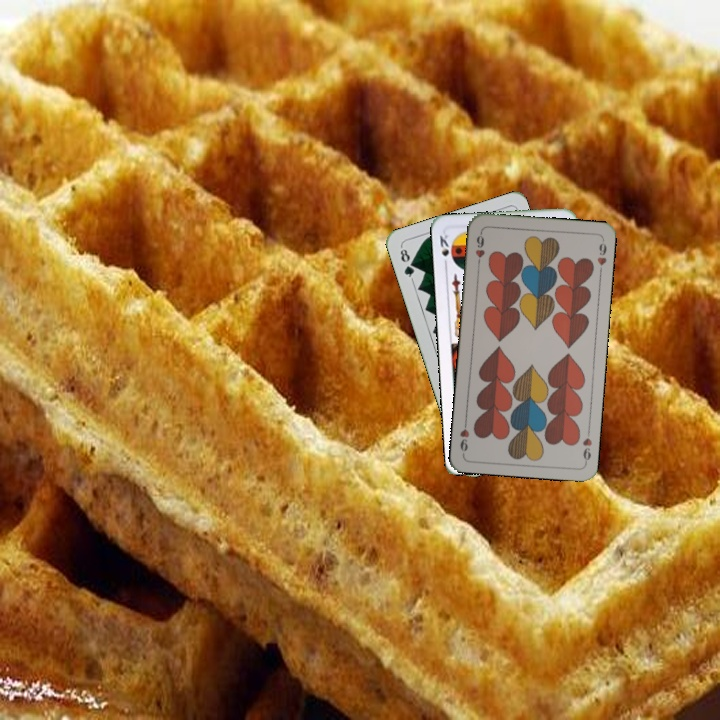G8: (396, 243, 417, 282)
H9: (471, 227, 487, 268), (579, 425, 594, 465)
SK: (436, 229, 451, 270)
